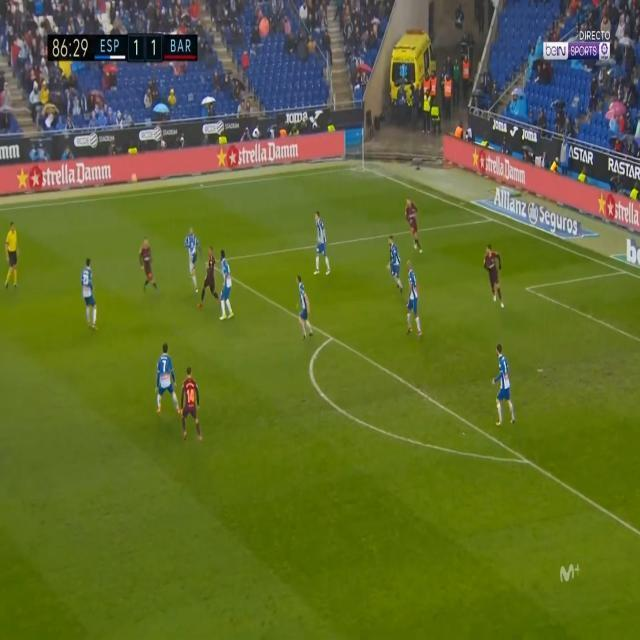player: (490, 349, 518, 432), (75, 251, 101, 332), (178, 368, 205, 444), (154, 343, 180, 419), (480, 239, 507, 309), (135, 233, 163, 298), (292, 272, 316, 342), (183, 224, 204, 298), (309, 211, 332, 277), (199, 245, 219, 318), (403, 193, 426, 256), (403, 273, 425, 338), (215, 255, 235, 323), (386, 235, 405, 293)
referee: (1, 214, 25, 296)
